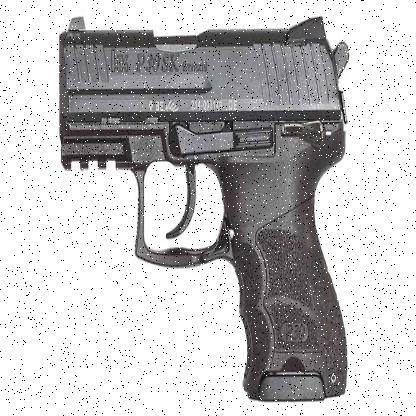pistol: (53, 12, 352, 401)
